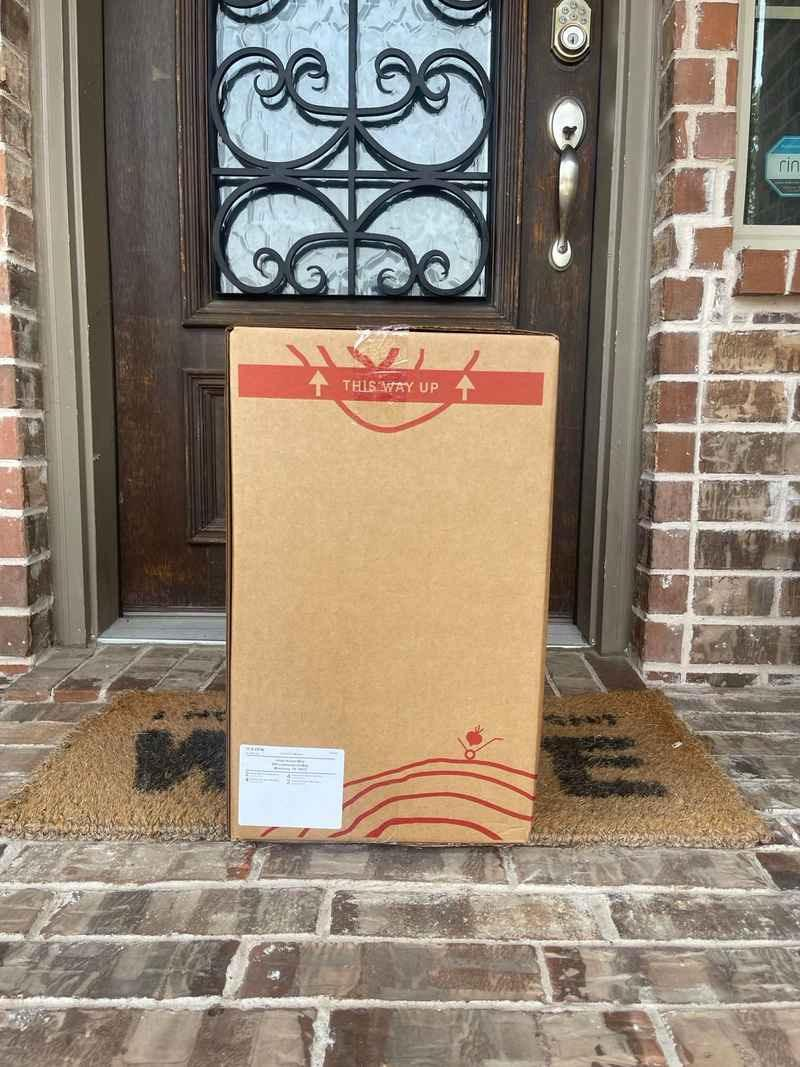package: (226, 317, 552, 851)
